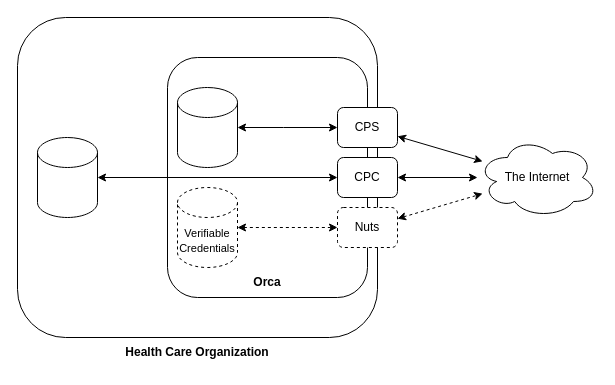
Image size: 615x385. Some labels were removed from this diagram. Here are the shapes that lost their labels. From the top down, the centre of each, then its label:
At (x=207, y=127): "Care Plans".
At (x=67, y=177): "EHR".
